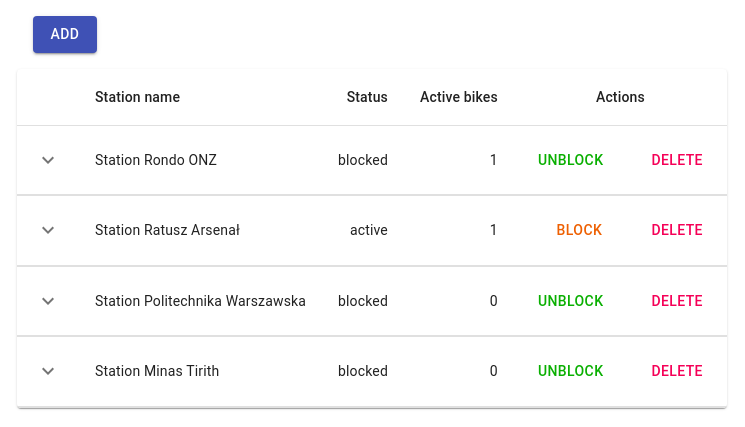
Scenario: Clicking block changes button text
This screenshot has width=745, height=427.
Click the button "Block" at {"x": 579, "y": 230}, box [547,212,611,248]
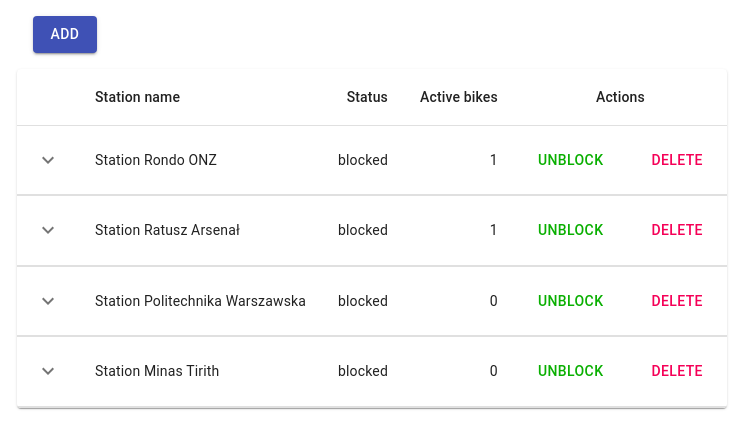
Result: the button "Unblock" in the row of "Ratusz Arsenał" is shown at [530,212,611,248]
